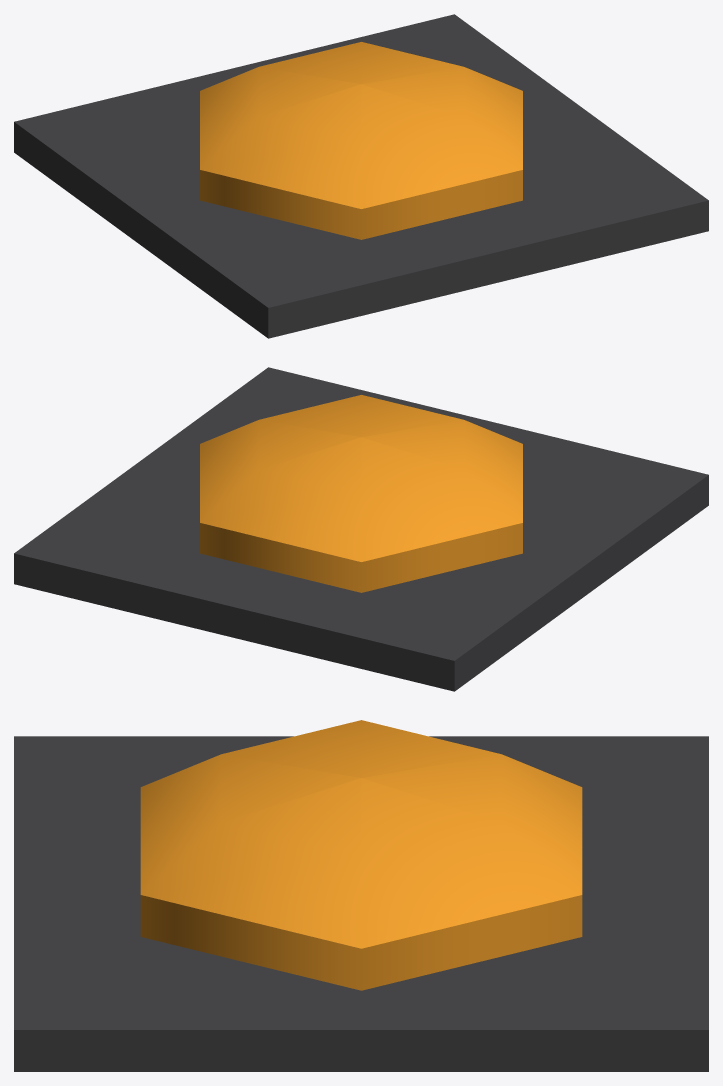
File: pod4_beacon.obj
3 renders of one model, top to bottom at view 1: azimuth 30°, elevation 25°; view 2: azimuth 150°, elevation 25°; view 3: azimuth 270°, elevation 25°, orthographic. The views are drawn at different scales.
Visible parts, largest first — view 1: pod4_beacon; view 2: pod4_beacon; view 3: pod4_beacon.
Boxes of the visible parts, <box> form: pod4_beacon: <box>14,14,708,338</box>; pod4_beacon: <box>14,367,708,691</box>; pod4_beacon: <box>14,720,708,1071</box>.
Bounding box in the file's own units: 0.3 × 0.07 × 0.3.
